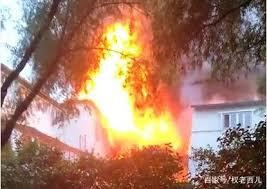fire: (78, 14, 184, 152)
